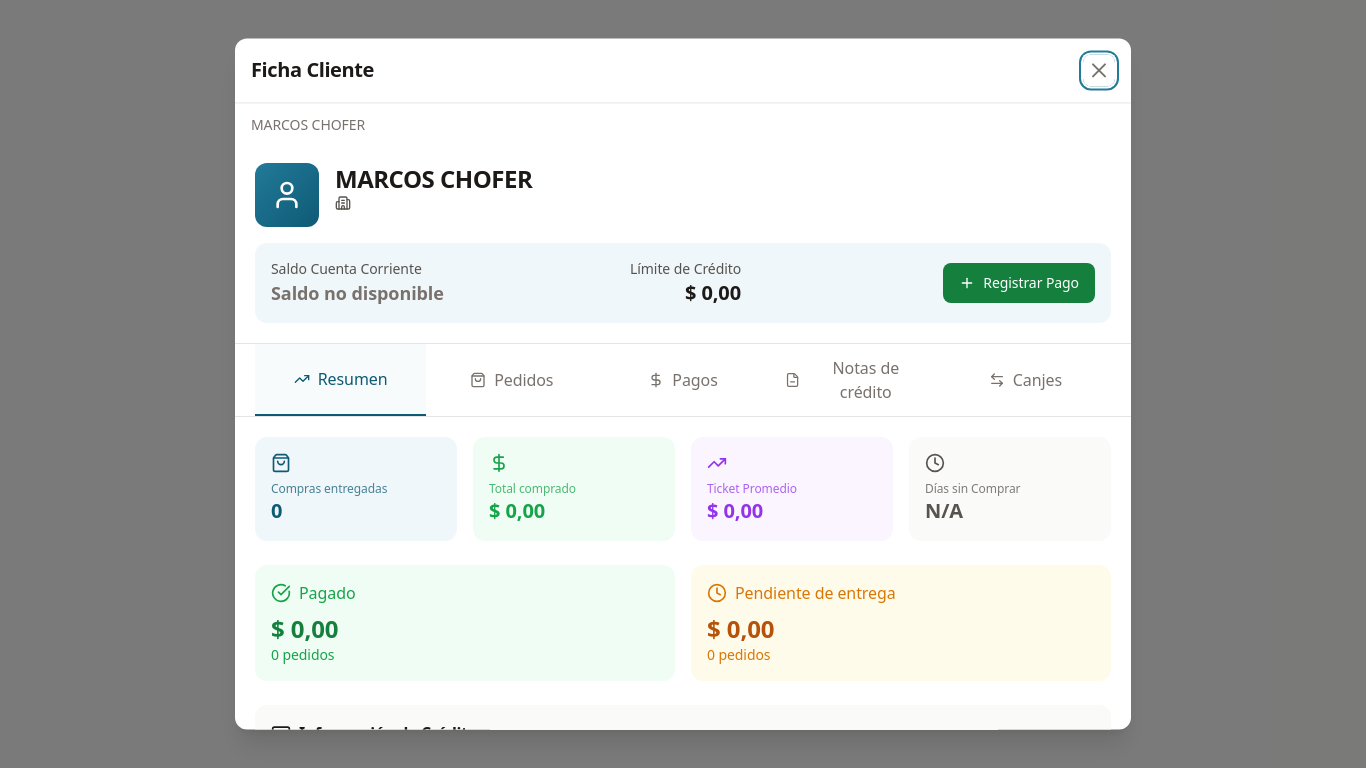
Test: ModalFichaCliente — quitar de la boleta el saldo a favor aplicado (COB-2) › un pago suelto (sin boleta) conserva el texto de siempre
The image size is (1366, 768).
Click the button "Pagos" at (683, 380), box [597, 344, 769, 416]
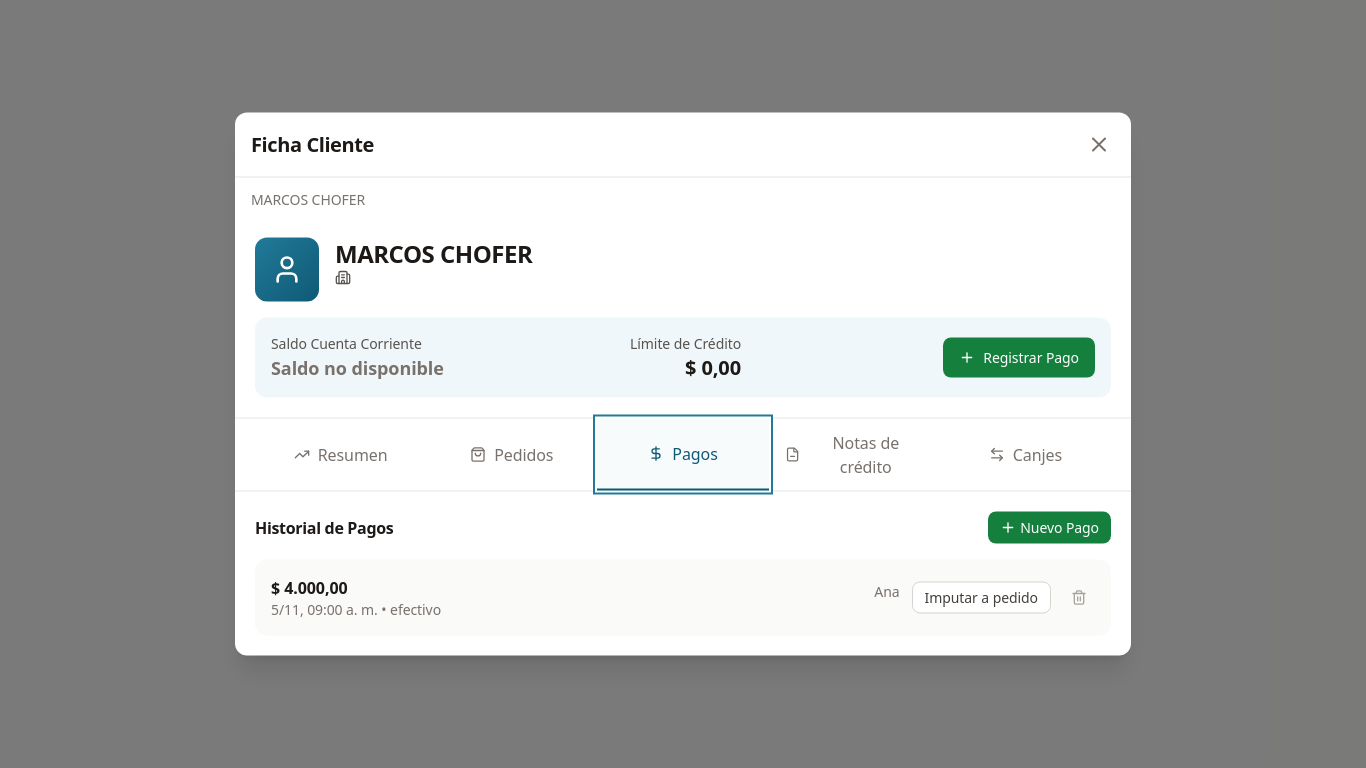
Click the button named "Anular pago" at (1079, 598), box [1063, 582, 1095, 614]
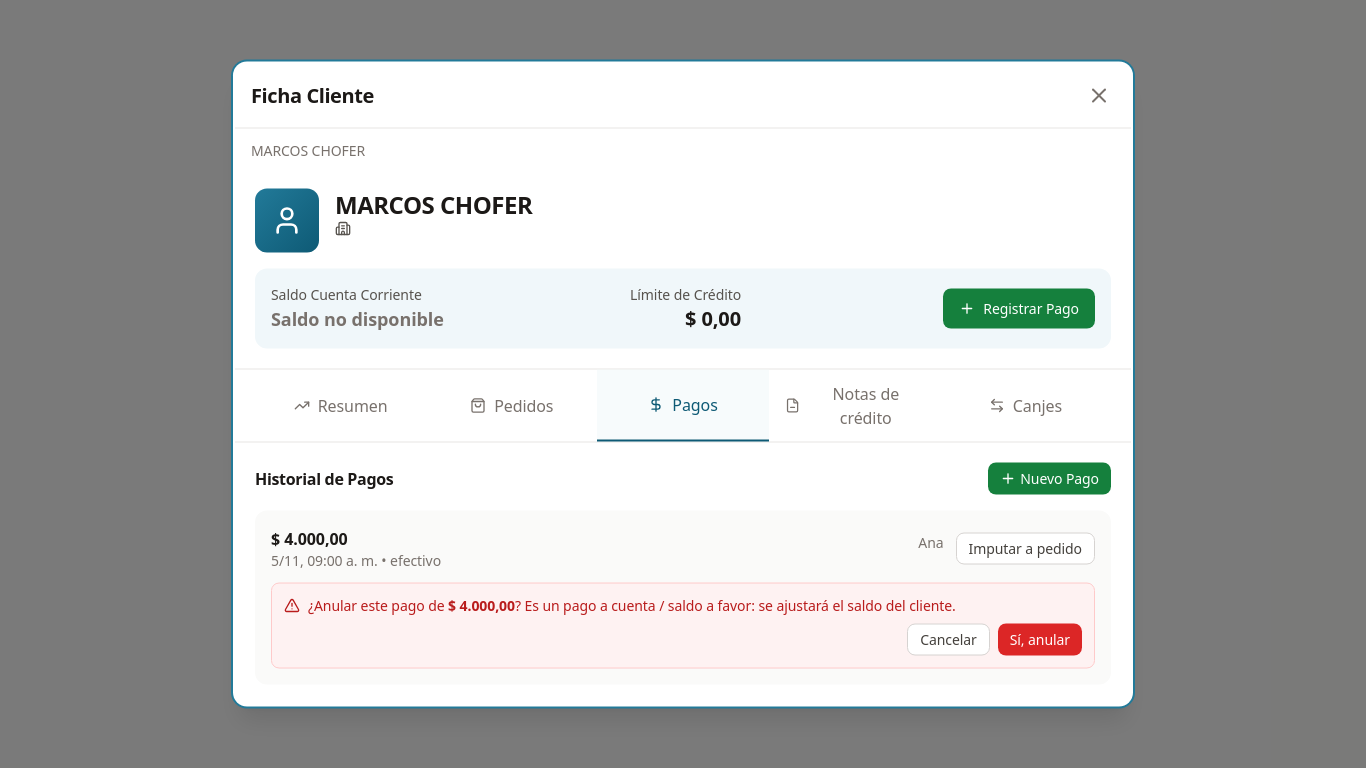
expect the text "¿Anular este pago de" shows "Es un pago a cuenta / saldo a favor: se ajustará el saldo del cliente.": met, box [524, 596, 956, 614]
